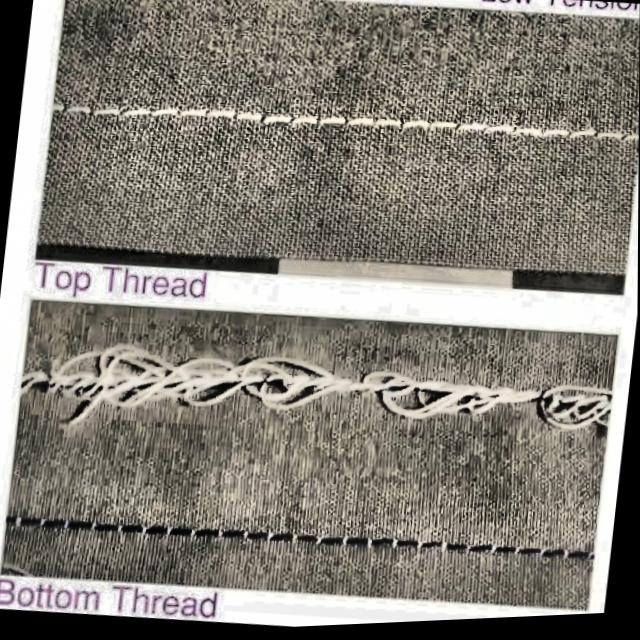Stitch: (9, 322, 350, 478), (344, 352, 615, 466)
